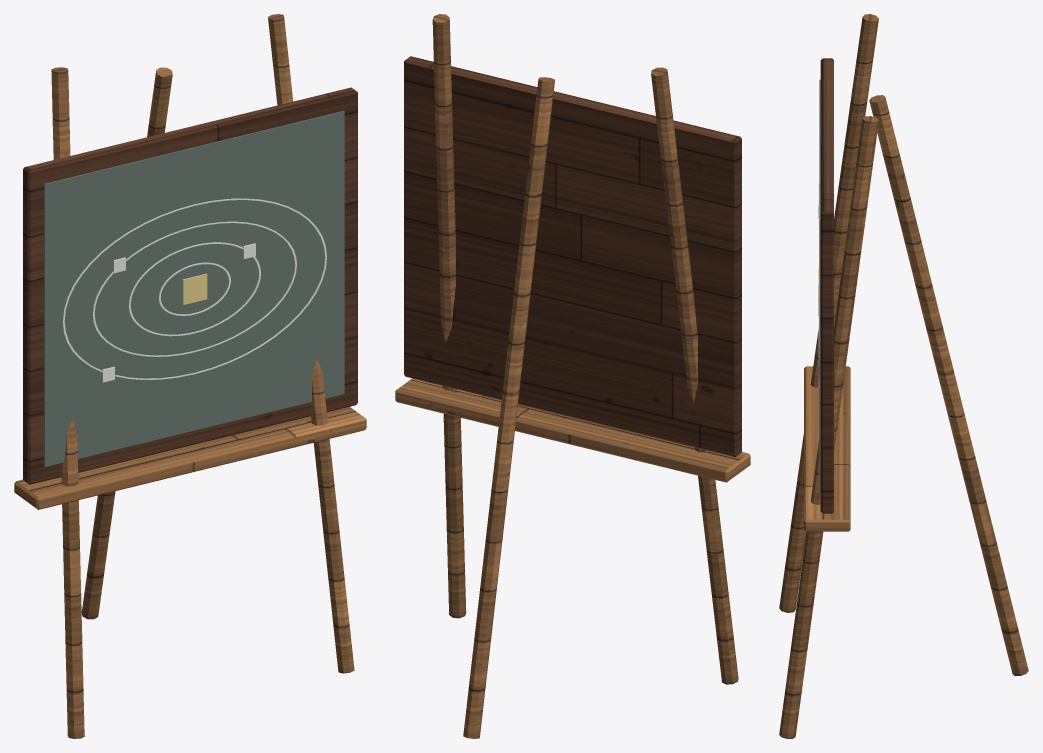
Rendered from easel_chart.glb.
3 renders of one model, left to right at view 1: azimuth 30°, elevation 25°; view 2: azimuth 150°, elevation 25°; view 3: azimuth 270°, elevation 25°, orthographic. The views are drawn at different scales.
Parts seen in each view (by area): view 1: easel_chart_board, easel_chart_oak, easel_chart_dkwood, easel_chart_chalk, easel_chart_gold; view 2: easel_chart_dkwood, easel_chart_oak; view 3: easel_chart_oak, easel_chart_dkwood, easel_chart_board.
Part boxes in pixels (<box>): easel_chart_board: <box>44,110,344,466</box>; easel_chart_oak: <box>14,14,366,738</box>; easel_chart_dkwood: <box>23,87,357,484</box>; easel_chart_chalk: <box>62,198,326,382</box>; easel_chart_gold: <box>182,273,207,304</box>; easel_chart_dkwood: <box>404,56,741,456</box>; easel_chart_oak: <box>395,14,750,738</box>; easel_chart_oak: <box>779,14,1028,738</box>; easel_chart_dkwood: <box>820,58,833,513</box>; easel_chart_board: <box>819,79,820,492</box>.
Size of the model in its own units: 1.1 by 2.01 by 0.7492.
Materials: 5 (2 with a texture image).
